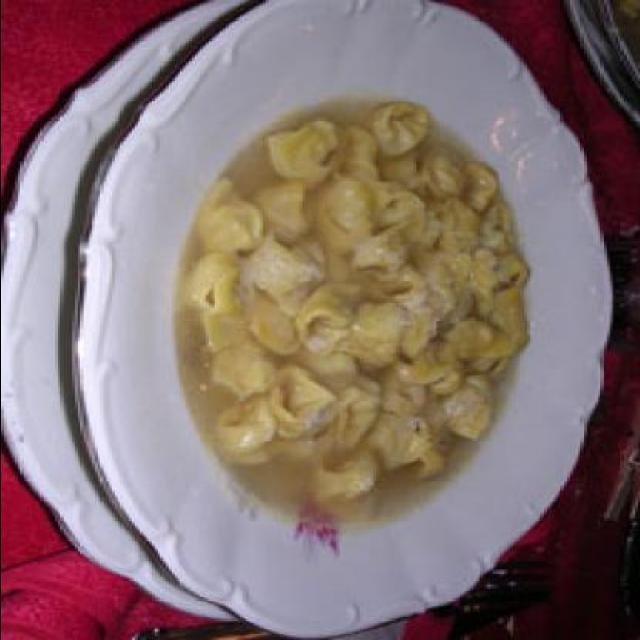Tortellini in broth: (208, 102, 530, 530)
